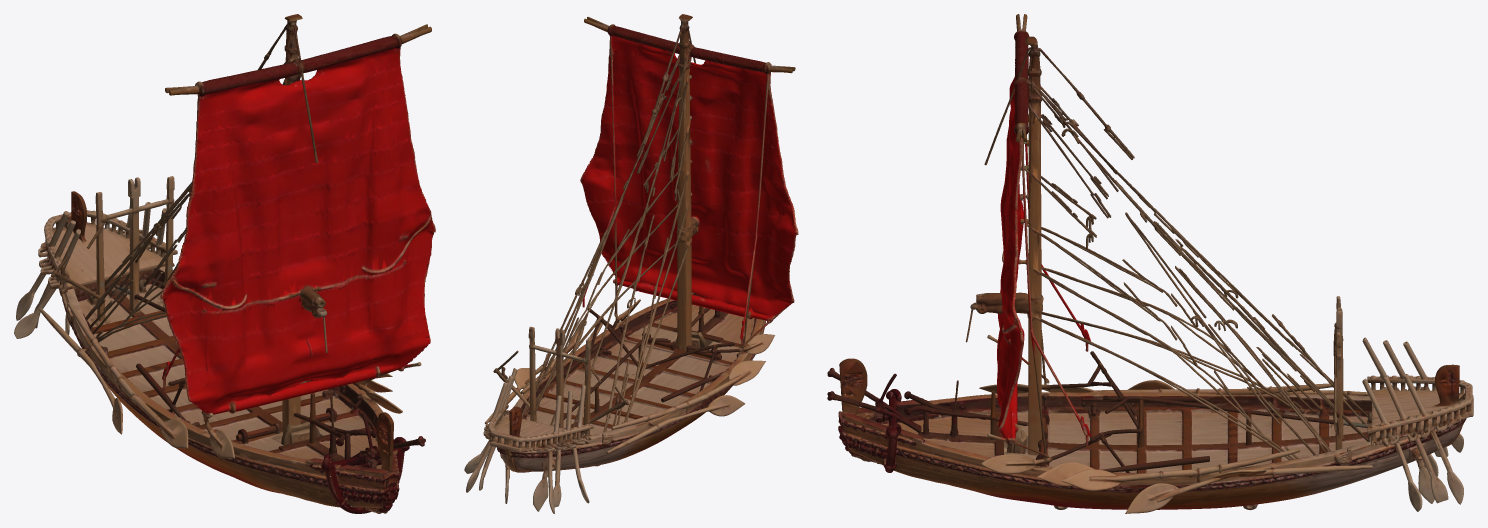
The model's file is King_Sahure_Egyptian_Seagoing_Ship.min.glb.
The picture shows the model from 3 angles, left to right: view 1: azimuth 30°, elevation 25°; view 2: azimuth 150°, elevation 25°; view 3: azimuth 270°, elevation 25°; orthographic projection. The views are drawn at different scales.
Parts seen in each view (by area): view 1: tripo_node_12c3832f-965d-492c-ace1-488ba20009dd; view 2: tripo_node_12c3832f-965d-492c-ace1-488ba20009dd; view 3: tripo_node_12c3832f-965d-492c-ace1-488ba20009dd.
Part boxes in pixels (<box>): tripo_node_12c3832f-965d-492c-ace1-488ba20009dd: <box>14,14,435,513</box>; tripo_node_12c3832f-965d-492c-ace1-488ba20009dd: <box>464,14,798,513</box>; tripo_node_12c3832f-965d-492c-ace1-488ba20009dd: <box>827,14,1473,513</box>.
Size of the model in its own units: 0.4662 by 0.7862 by 0.9792.
Materials: 1 (1 with a texture image).
